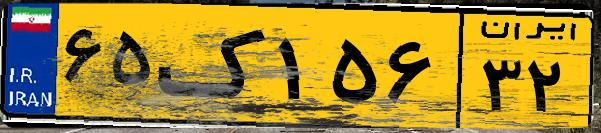1: (270, 28, 330, 110)
2: (525, 38, 570, 115)
3: (475, 38, 525, 113)
5: (330, 28, 385, 110), (110, 28, 158, 98)
6: (385, 28, 445, 110), (57, 26, 110, 100)
ک: (158, 12, 270, 120)
